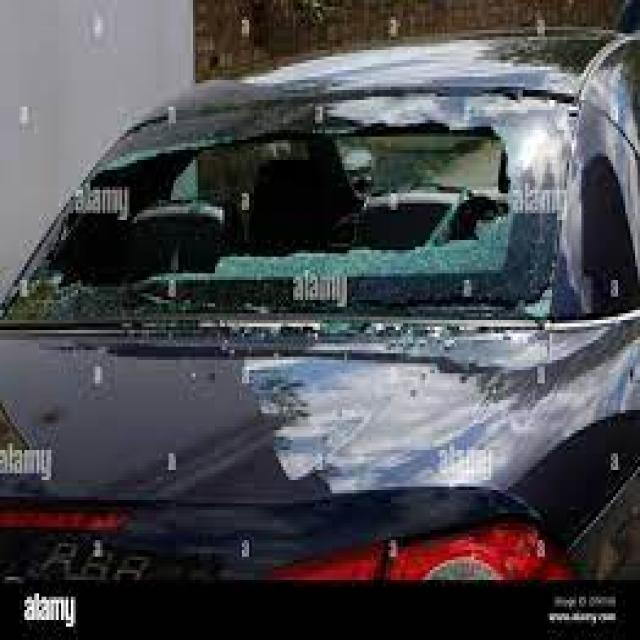damaged-rear-window: (2, 88, 582, 320)
